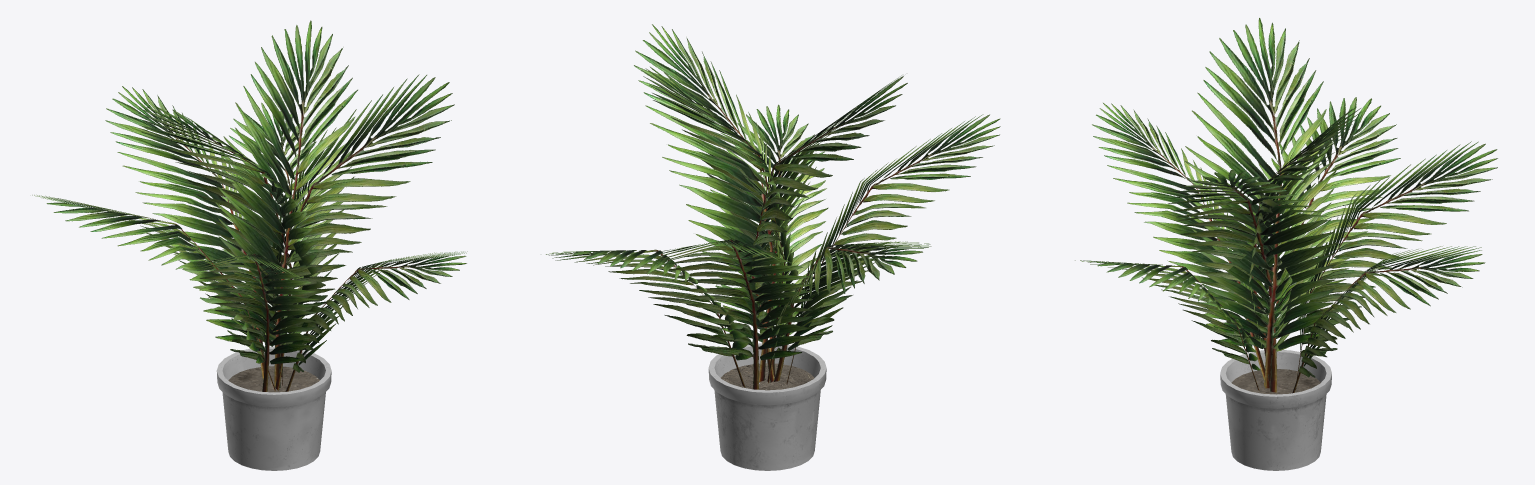
The model's file is HH_Potted_Plant_05.fbx.
3 views of the same model, side by side, from view 1: azimuth 30°, elevation 25°; view 2: azimuth 150°, elevation 25°; view 3: azimuth 270°, elevation 25° (orthographic). The views are drawn at different scales.
Parts seen in each view (by area): view 1: HH_Potted_Plant_05_LOD0; view 2: HH_Potted_Plant_05_LOD0; view 3: HH_Potted_Plant_05_LOD0.
Boxes of the visible parts, x1=… form: HH_Potted_Plant_05_LOD0: x1=32, y1=20, x2=467, y2=470; HH_Potted_Plant_05_LOD0: x1=546, y1=24, x2=1000, y2=470; HH_Potted_Plant_05_LOD0: x1=1075, y1=18, x2=1497, y2=470.
Size of what is drawn, in the model's own units: 104 by 112 by 125.
